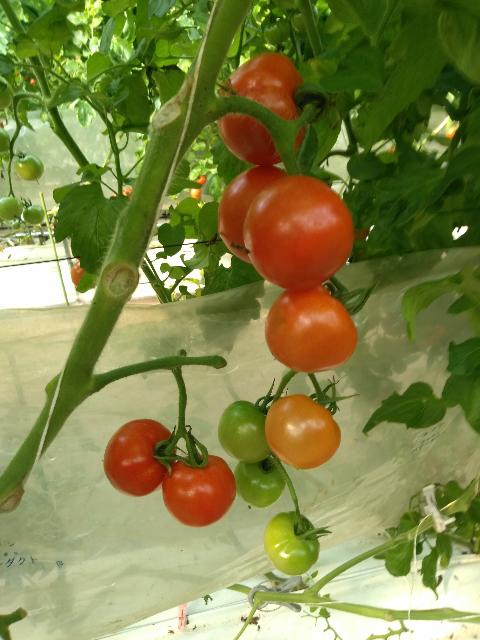l_fully_ripened: (243, 175, 354, 291), (217, 52, 315, 165), (264, 283, 357, 373), (217, 165, 290, 264), (102, 419, 177, 497), (161, 453, 236, 528)
l_green: (263, 511, 320, 575), (217, 400, 273, 464), (234, 454, 287, 510), (15, 154, 45, 182), (292, 3, 319, 33), (264, 19, 290, 45), (0, 196, 24, 221), (0, 75, 15, 108), (23, 204, 45, 226), (0, 127, 11, 154)
l_half_ripened: (264, 394, 342, 470)
